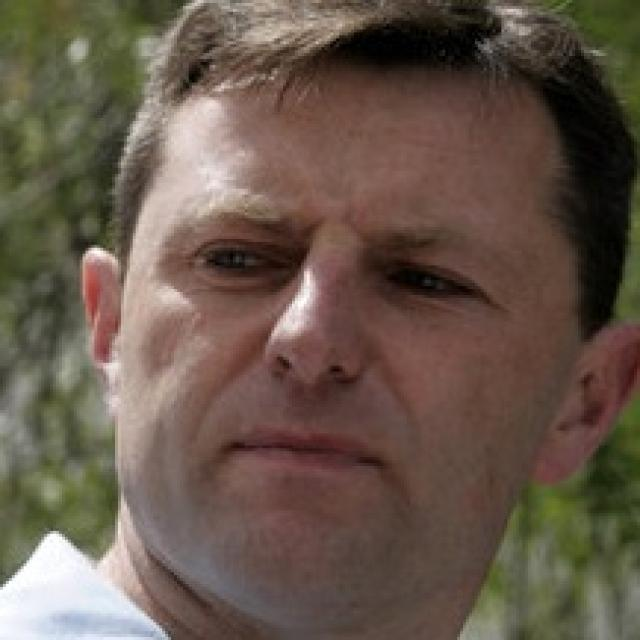Depress: (111, 52, 581, 637)
